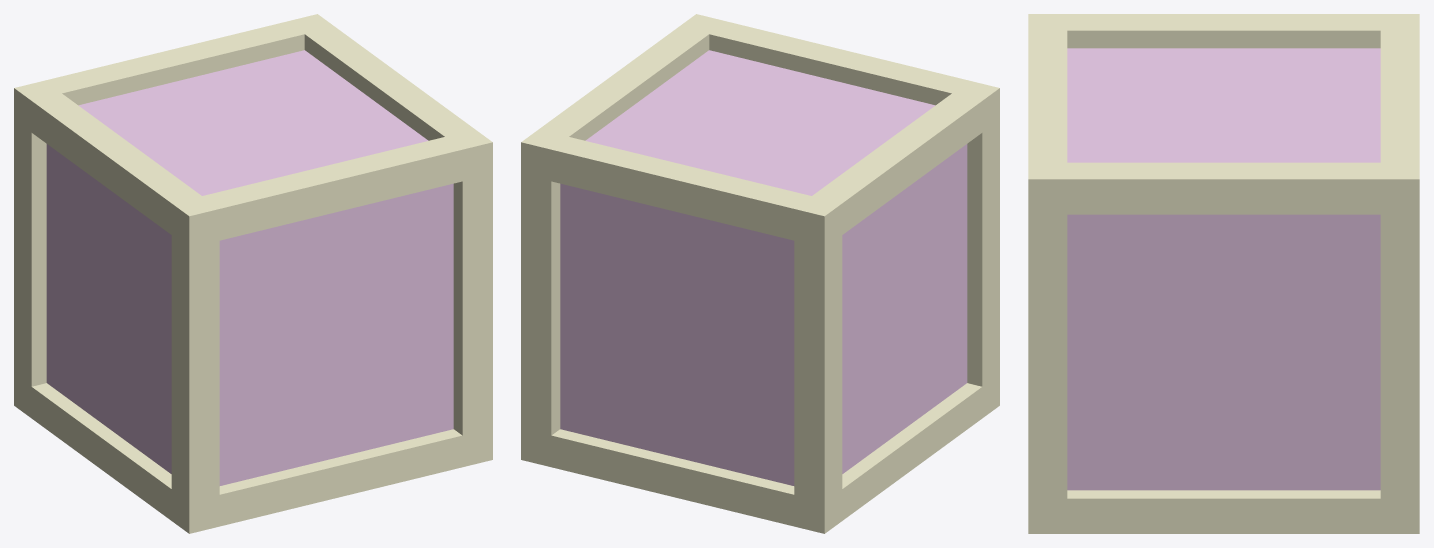
Rendered from Crate.glb.
3 views of the same model, side by side, from view 1: azimuth 30°, elevation 25°; view 2: azimuth 150°, elevation 25°; view 3: azimuth 270°, elevation 25° (orthographic). The views are drawn at different scales.
Parts seen in each view (by area): view 1: Crate; view 2: Crate; view 3: Crate.
Part boxes in pixels (x1=…): Crate: x1=14, y1=14, x2=492, y2=533; Crate: x1=521, y1=14, x2=999, y2=533; Crate: x1=1028, y1=14, x2=1419, y2=533.
Bounding box in the file's own units: 0.5 × 0.5 × 0.5.
